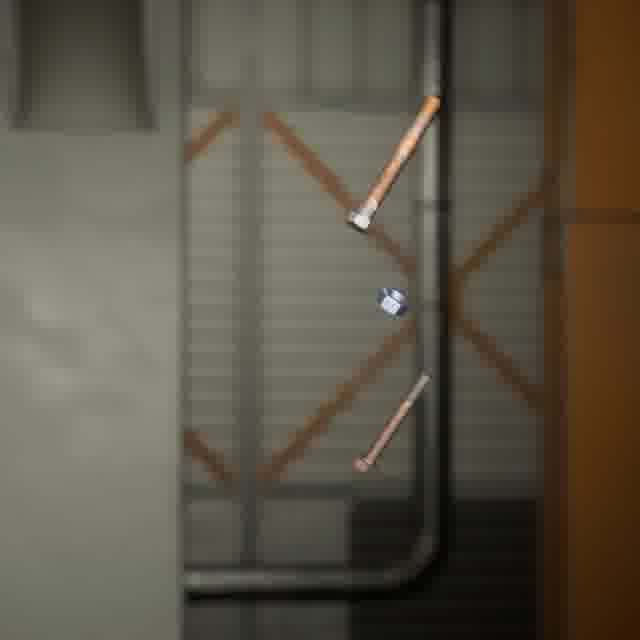bolt: (341, 91, 445, 238), (348, 366, 436, 480)
nut: (372, 282, 414, 320)
